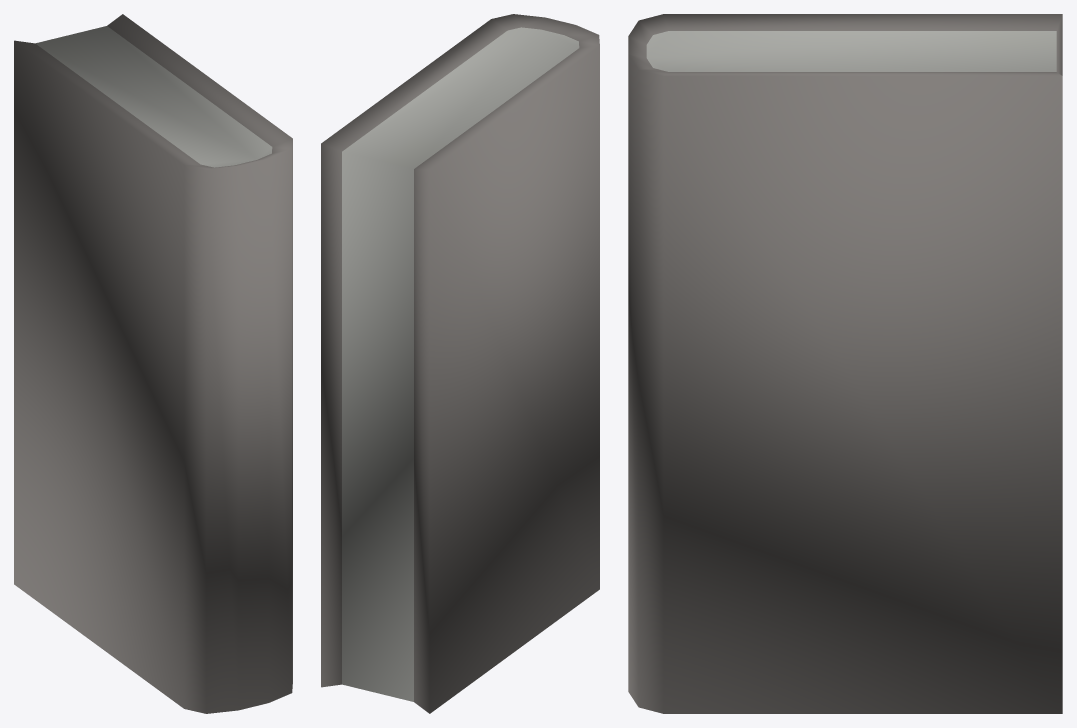
File: Assets.fbx_Book_2.fbx
The picture shows the model from 3 angles, left to right: view 1: azimuth 30°, elevation 25°; view 2: azimuth 150°, elevation 25°; view 3: azimuth 270°, elevation 25°; orthographic projection. The views are drawn at different scales.
Parts seen in each view (by area): view 1: Book 2; view 2: Book 2; view 3: Book 2.
Boxes of the visible parts, x1,y1,x2,y2 form: Book 2: (14, 14, 292, 713); Book 2: (321, 14, 599, 713); Book 2: (628, 14, 1062, 713).
Size of the model in its own units: 6.75 by 32.23 by 19.91.
